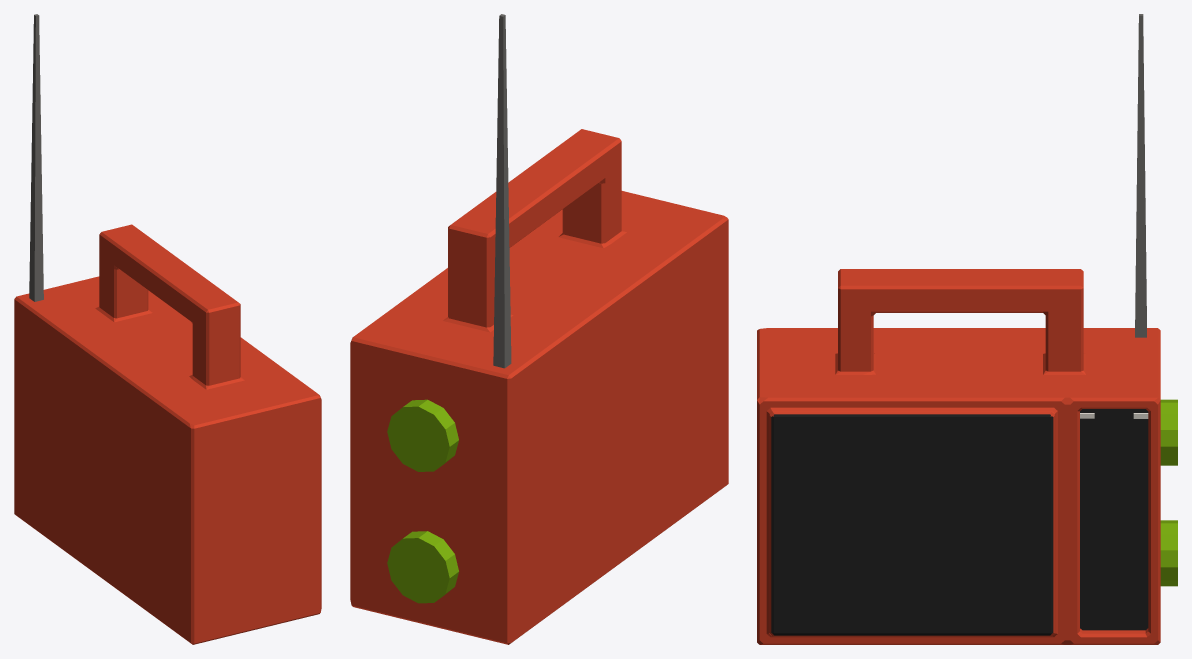
File: radio.fbx
The picture shows the model from 3 angles, left to right: view 1: azimuth 30°, elevation 25°; view 2: azimuth 150°, elevation 25°; view 3: azimuth 270°, elevation 25°; orthographic projection. The views are drawn at different scales.
Parts seen in each view (by area): view 1: Radio, Antenna; view 2: Radio, Antenna, Knob2, Knob1; view 3: Radio, Antenna, Knob2, Knob1.
Boxes of the visible parts, x1,y1,x2,y2 form: Radio: [14, 224, 321, 644]; Antenna: [29, 14, 43, 301]; Radio: [350, 129, 728, 644]; Antenna: [493, 14, 511, 368]; Knob2: [387, 531, 458, 603]; Knob1: [387, 399, 458, 471]; Radio: [757, 269, 1160, 644]; Antenna: [1135, 14, 1146, 337]; Knob2: [1160, 520, 1177, 586]; Knob1: [1160, 399, 1177, 465].
Size of the model in its own units: 0.5339 by 1.9 by 1.28.
